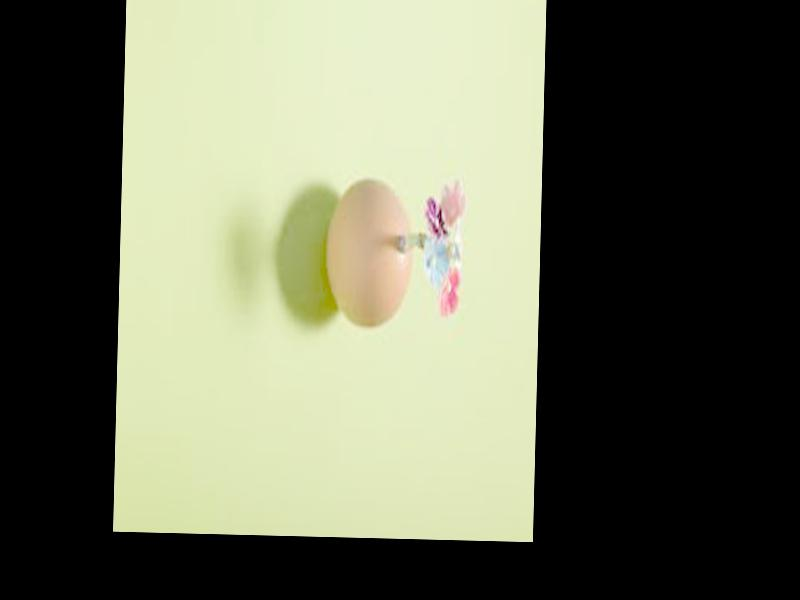Eggs: (324, 178, 413, 327)
